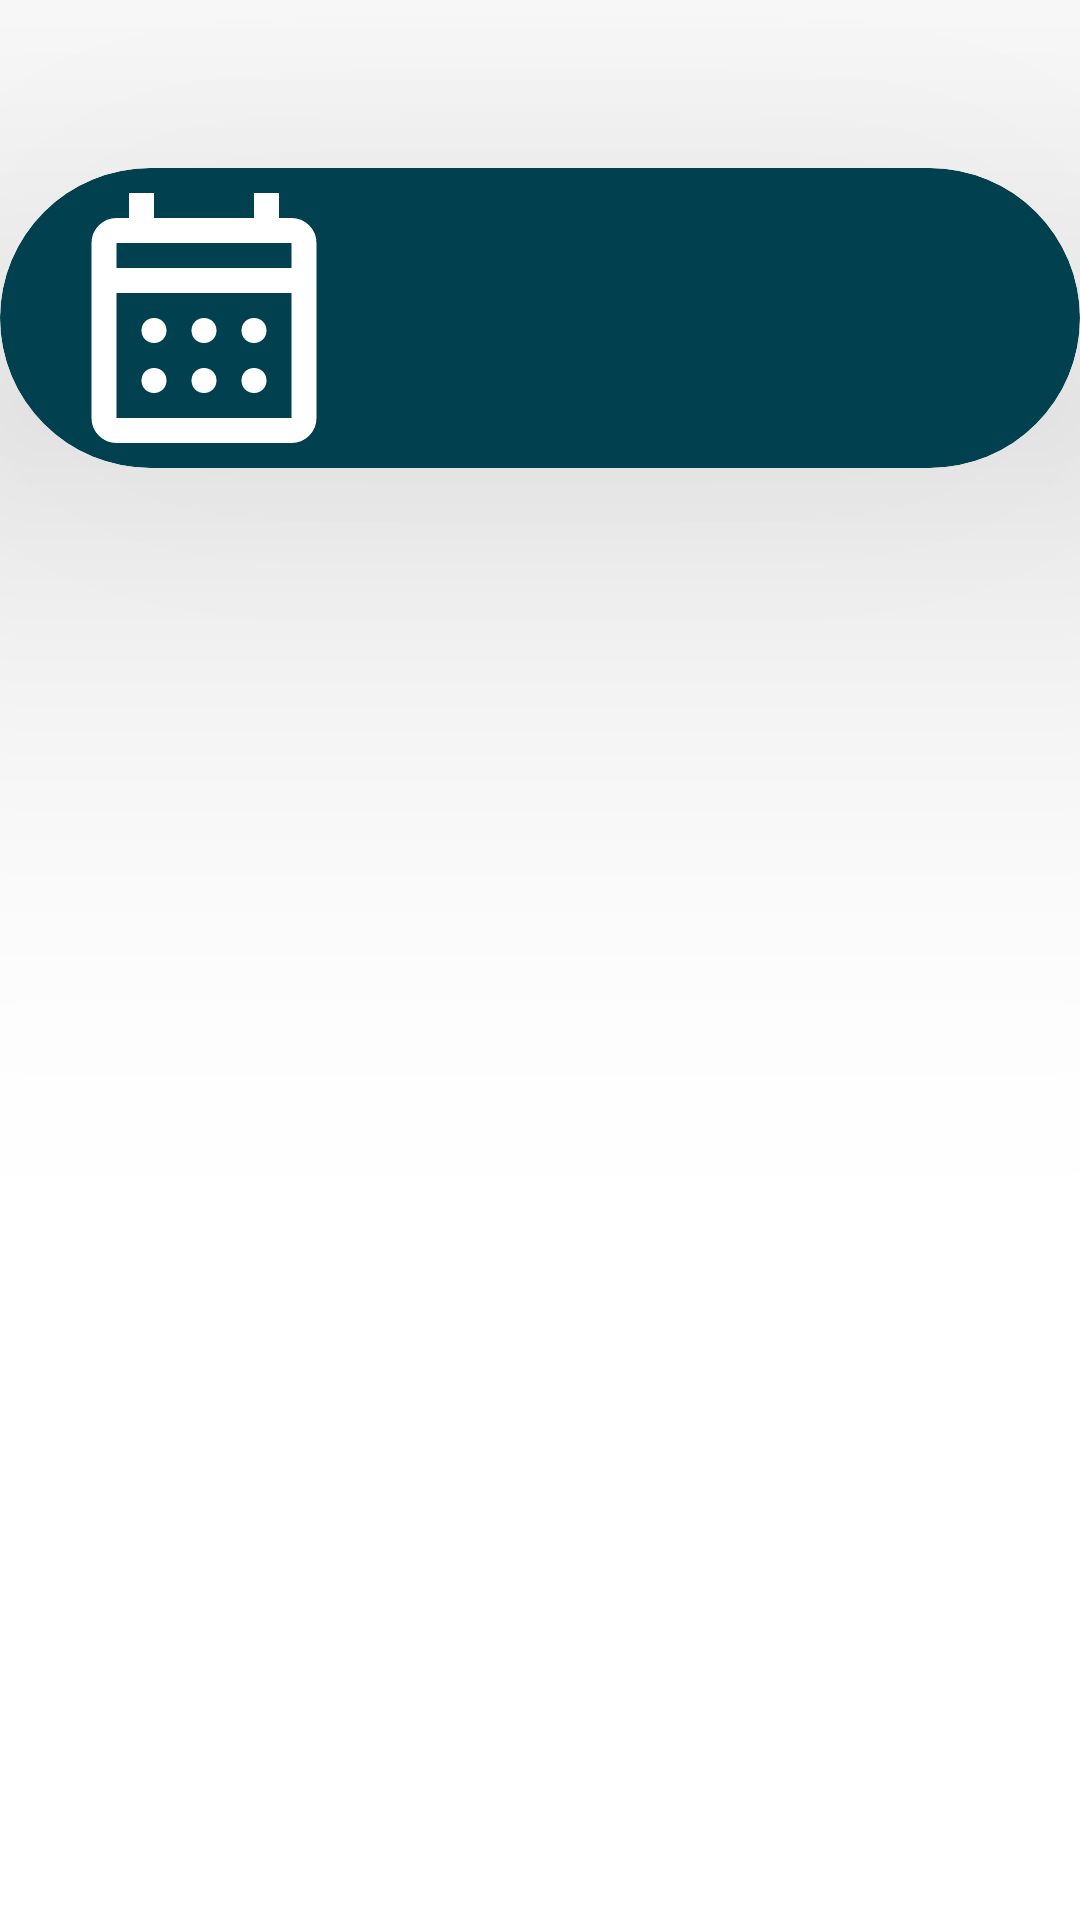

Icon click points for this 1080px×1920px phone screenshot, format (x,y):
calender: (204,318)
